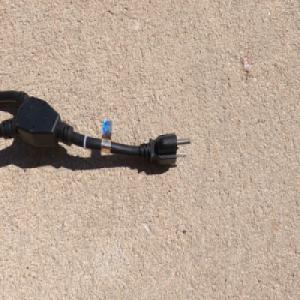Wire: (0, 87, 192, 169)
